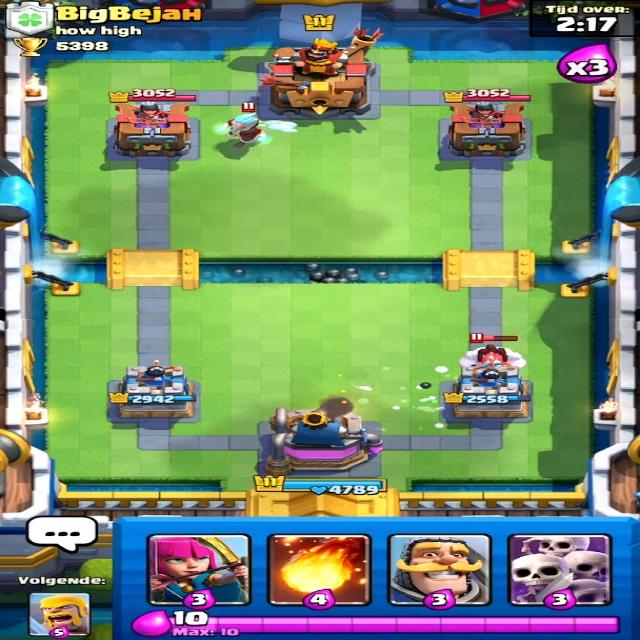Enemy_Ice_Golem_Troop: (456, 340, 527, 378)
Enemy_Ice_Wizard_Troop: (219, 106, 271, 146)
Fireball_Card: (268, 532, 370, 607)
